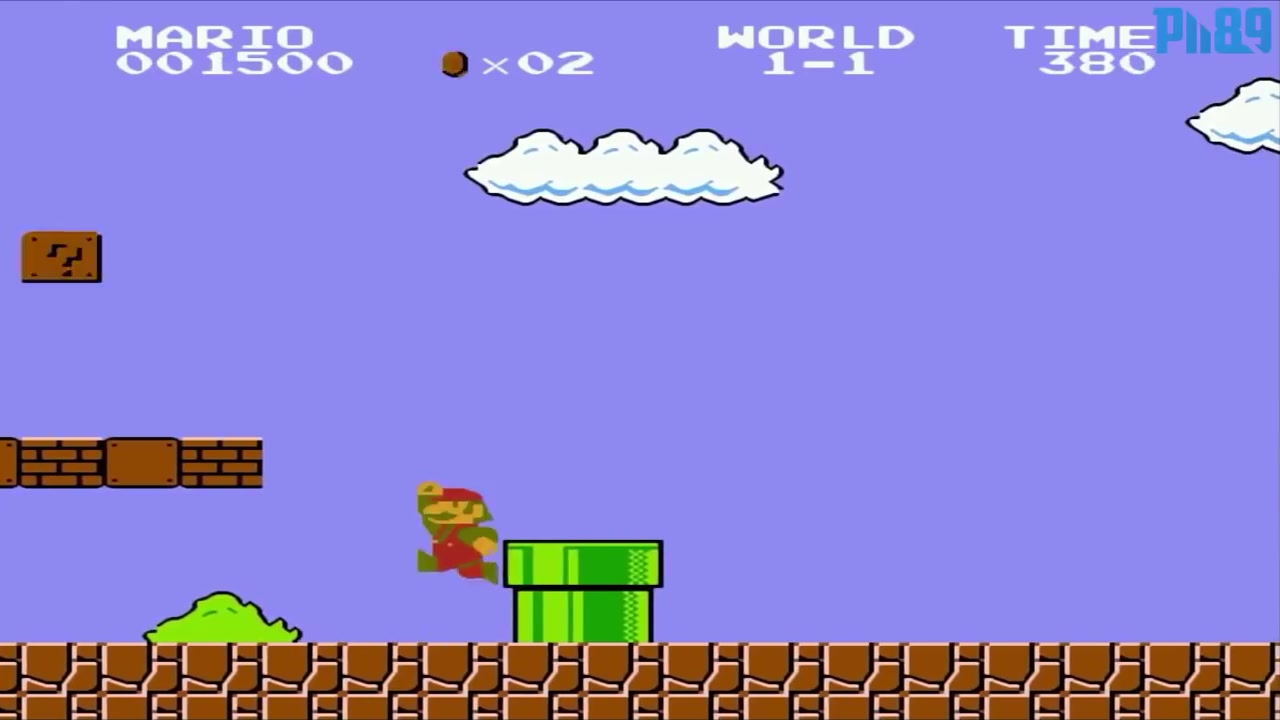mario: (401, 469, 508, 599)
